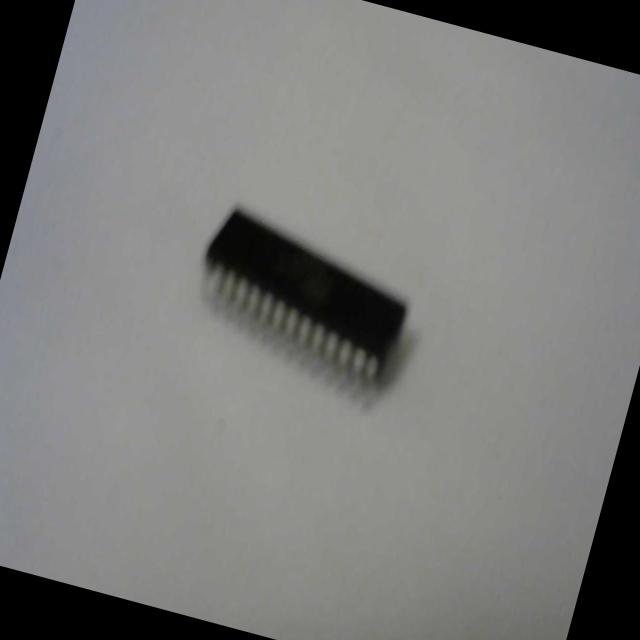atmega: (177, 194, 426, 400)
